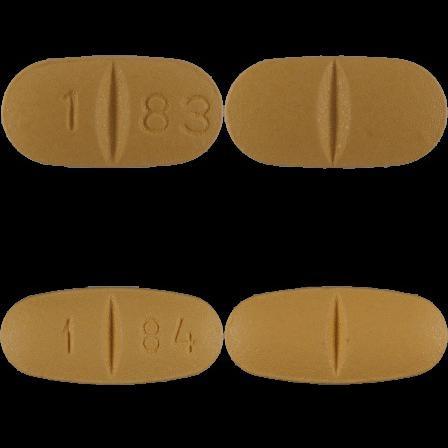0615-6593: (0, 0, 224, 224)
